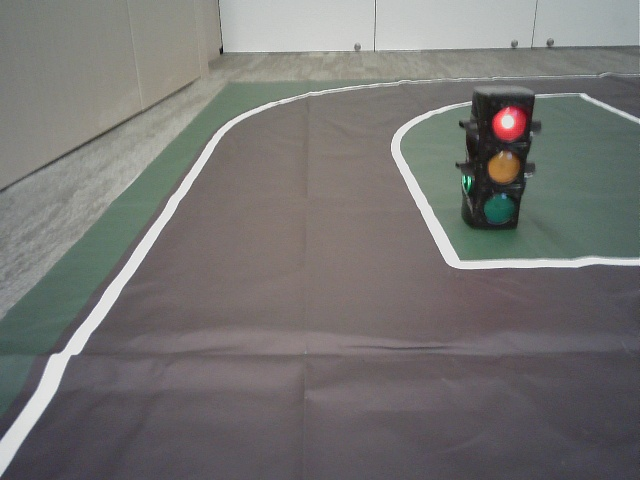red: (481, 101, 529, 227)
